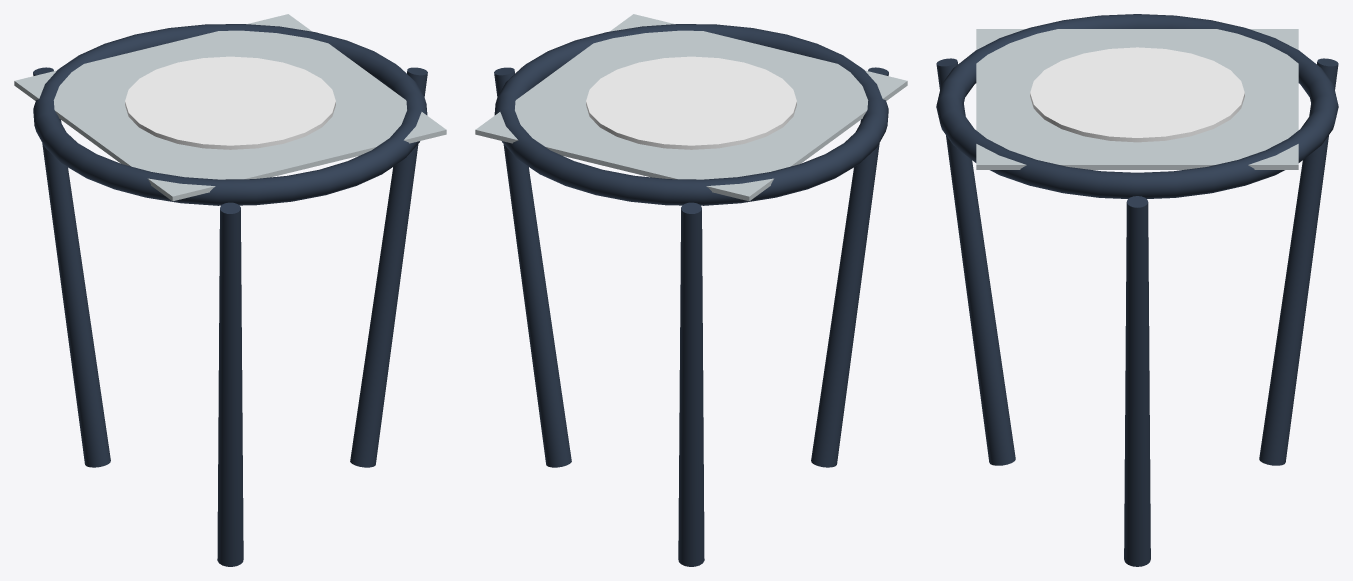
File: tripod.glb
The picture shows the model from 3 angles, left to right: view 1: azimuth 30°, elevation 25°; view 2: azimuth 150°, elevation 25°; view 3: azimuth 270°, elevation 25°; orthographic projection.
Parts seen in each view (by area): view 1: Tripod; view 2: Tripod; view 3: Tripod.
Boxes of the visible parts, x1,y1,x2,y2 form: Tripod: [14, 14, 446, 566]; Tripod: [475, 14, 907, 566]; Tripod: [936, 14, 1338, 566].
Size of the model in its own units: 1.61 by 1.66 by 1.5.
